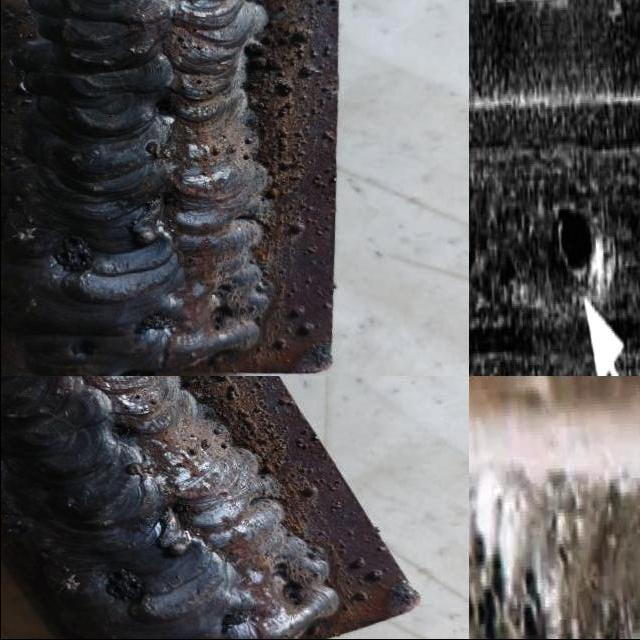defect: (468, 475, 547, 640), (551, 198, 594, 293), (48, 236, 97, 277), (103, 566, 152, 607), (544, 511, 573, 569), (206, 282, 236, 334), (131, 311, 178, 342), (216, 608, 256, 636), (146, 93, 177, 116), (69, 340, 102, 358), (111, 422, 135, 438)
